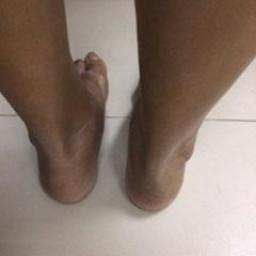Back View -Both Feet-: (8, 37, 228, 222)
